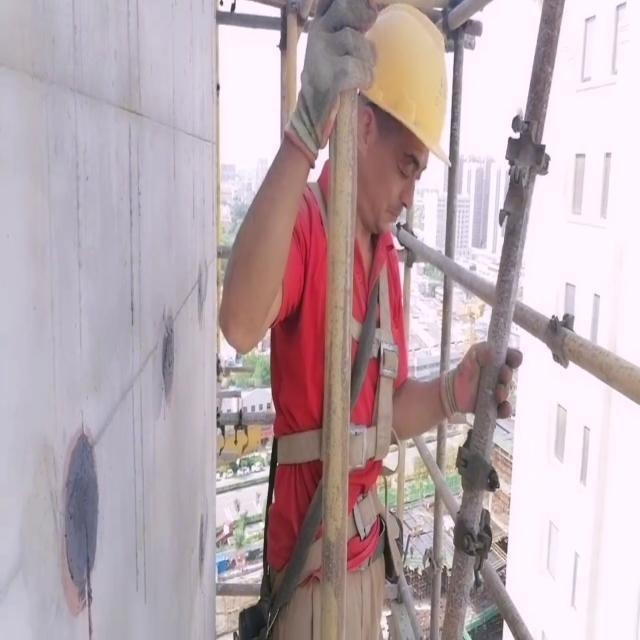Arnes_seguridad: (267, 162, 406, 480)
